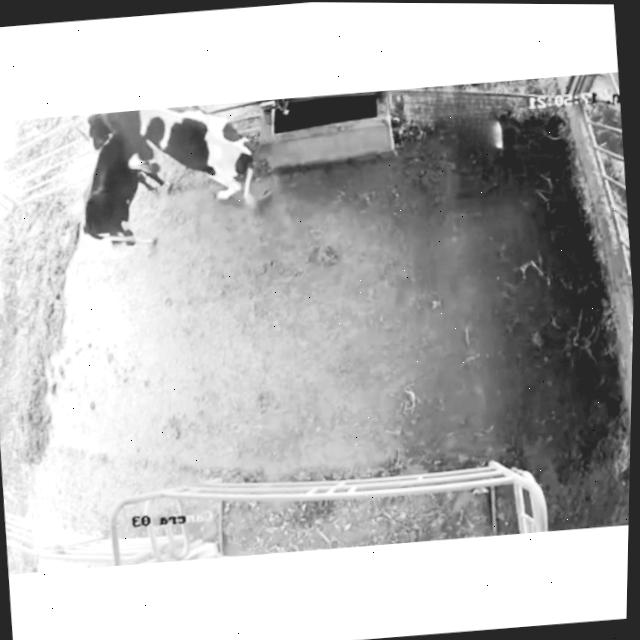ride: (85, 98, 276, 217)
